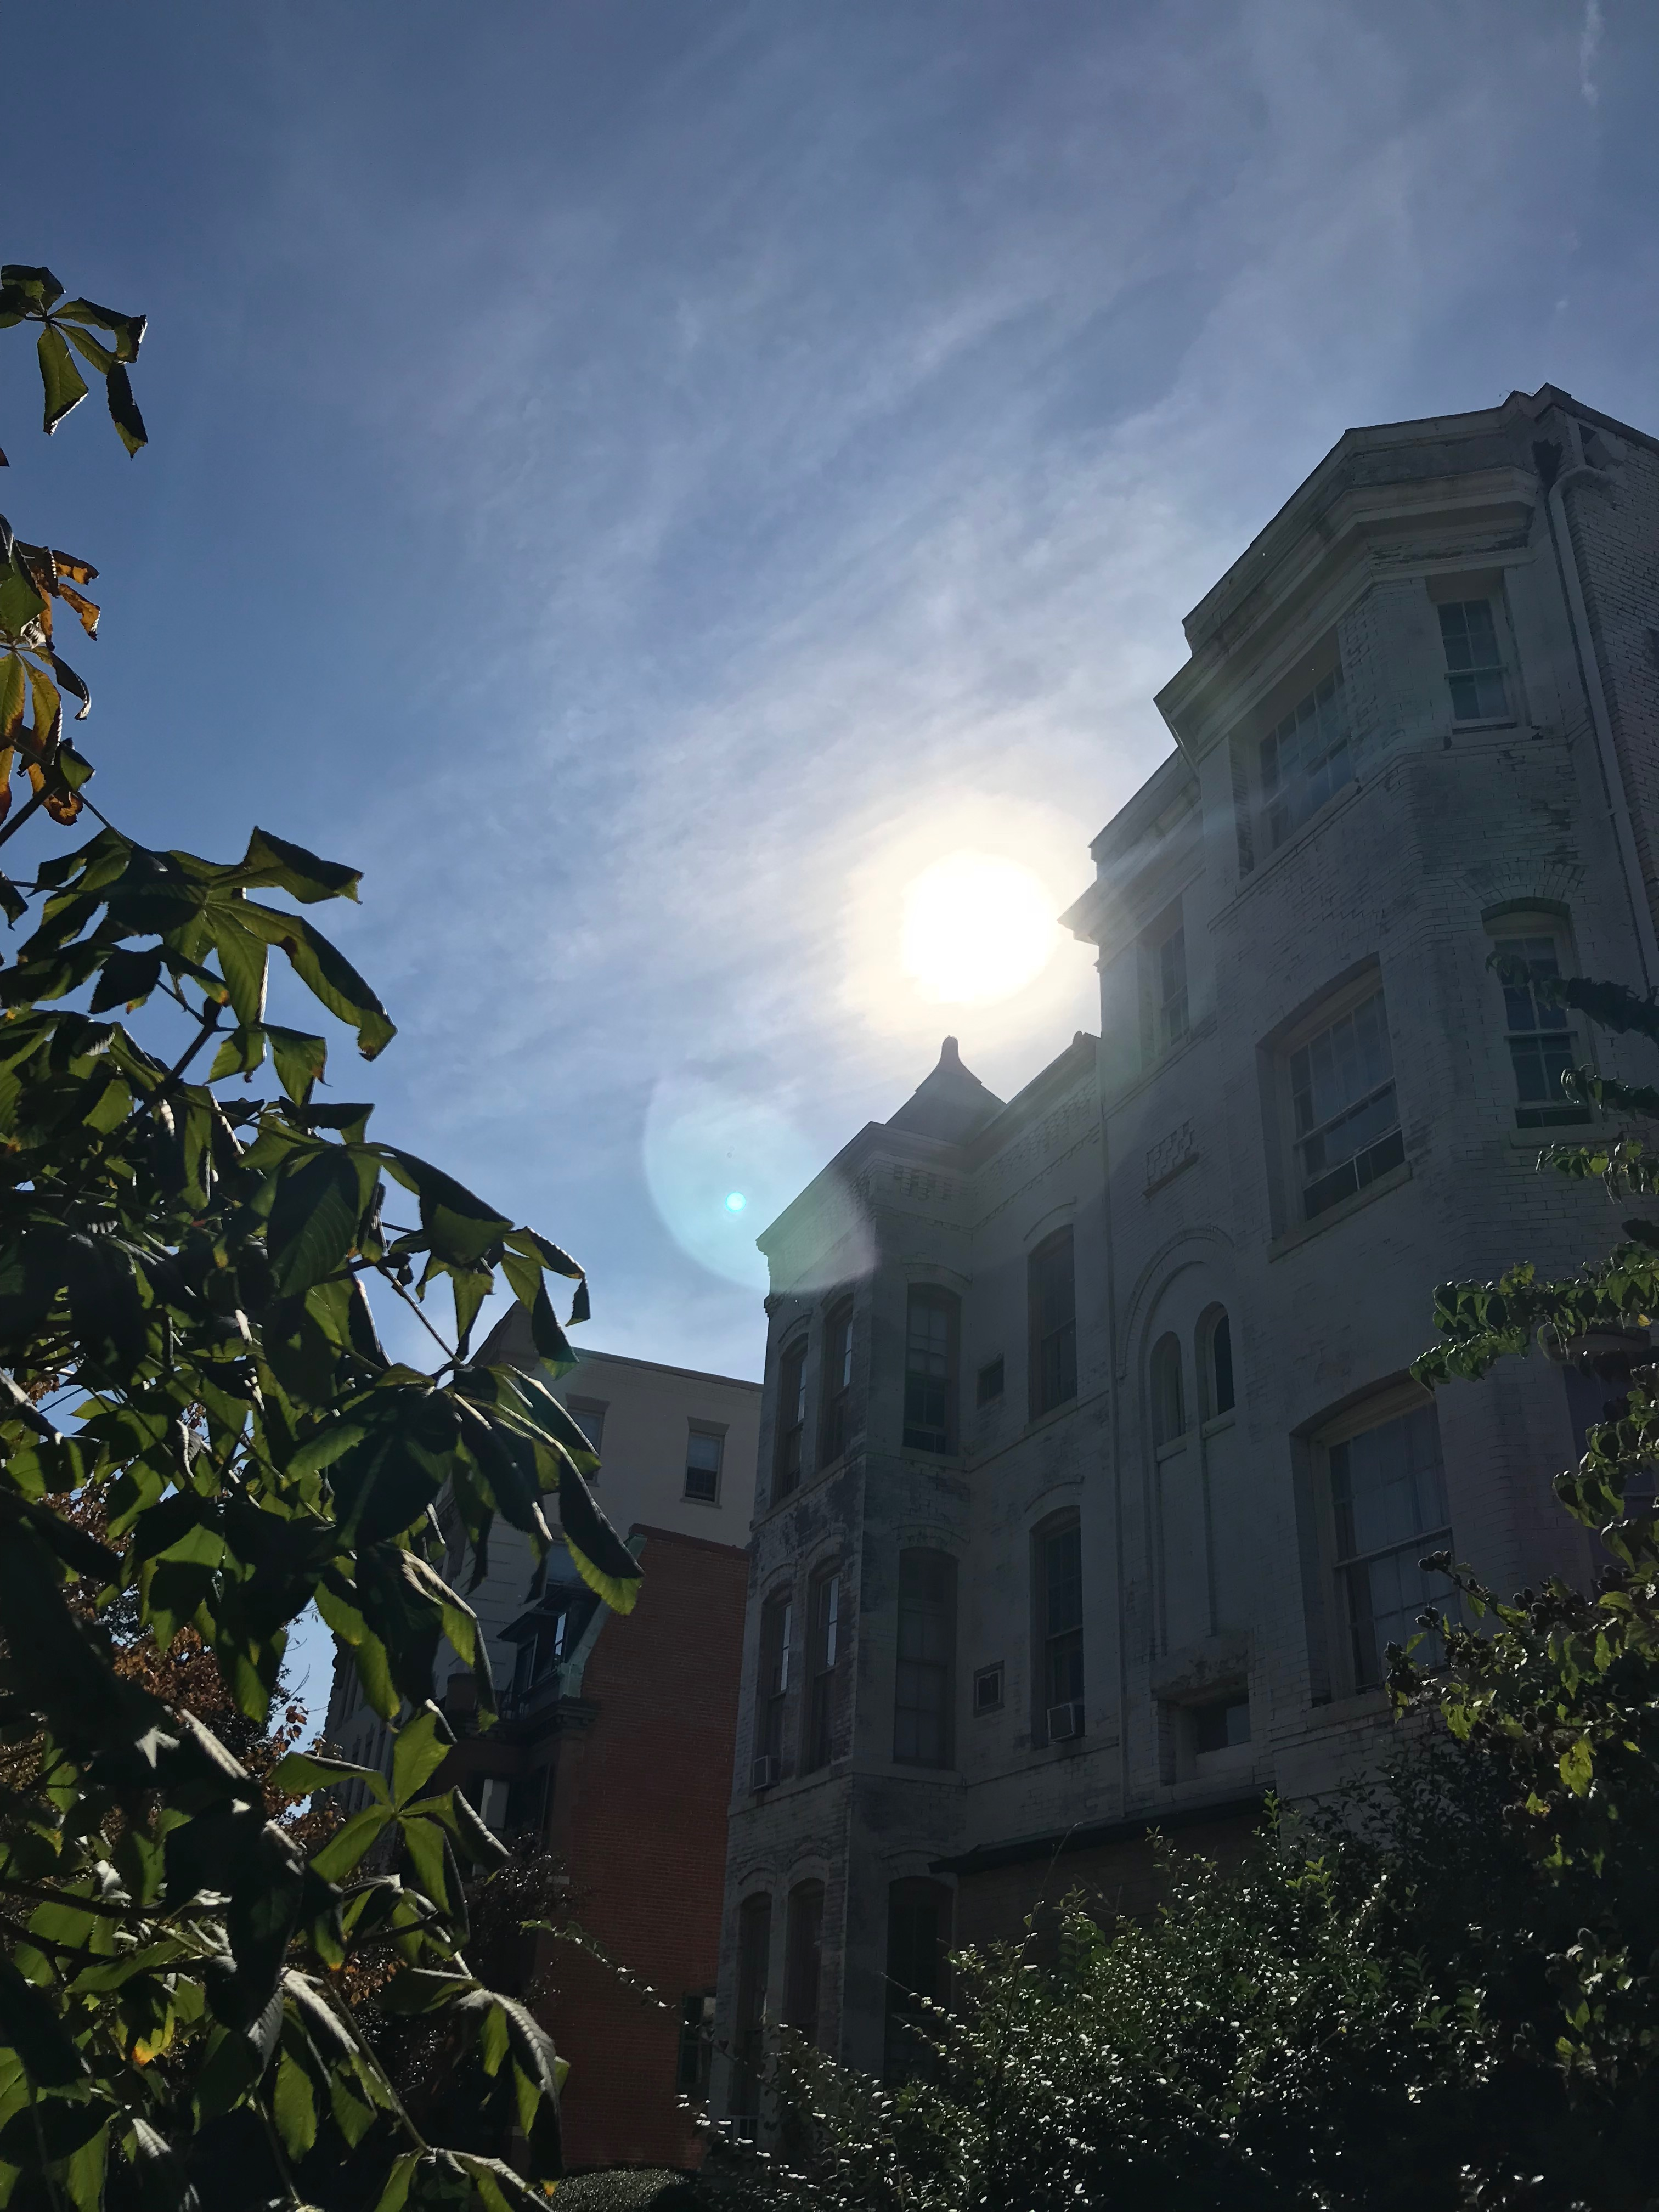flare: (725, 1191, 748, 1214)
